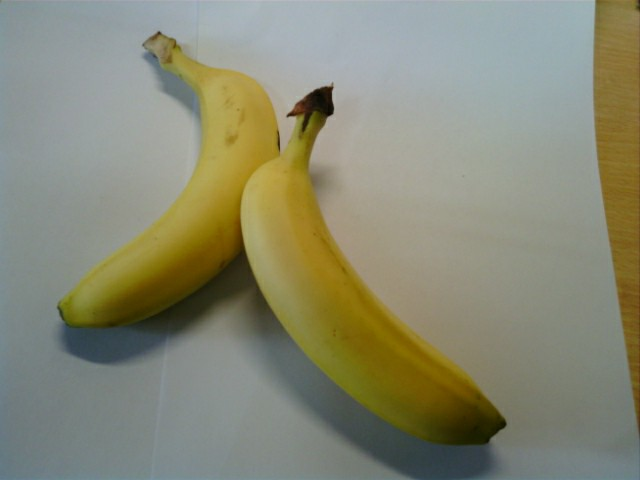fresh_banana: (239, 147, 506, 451), (59, 58, 275, 329)
